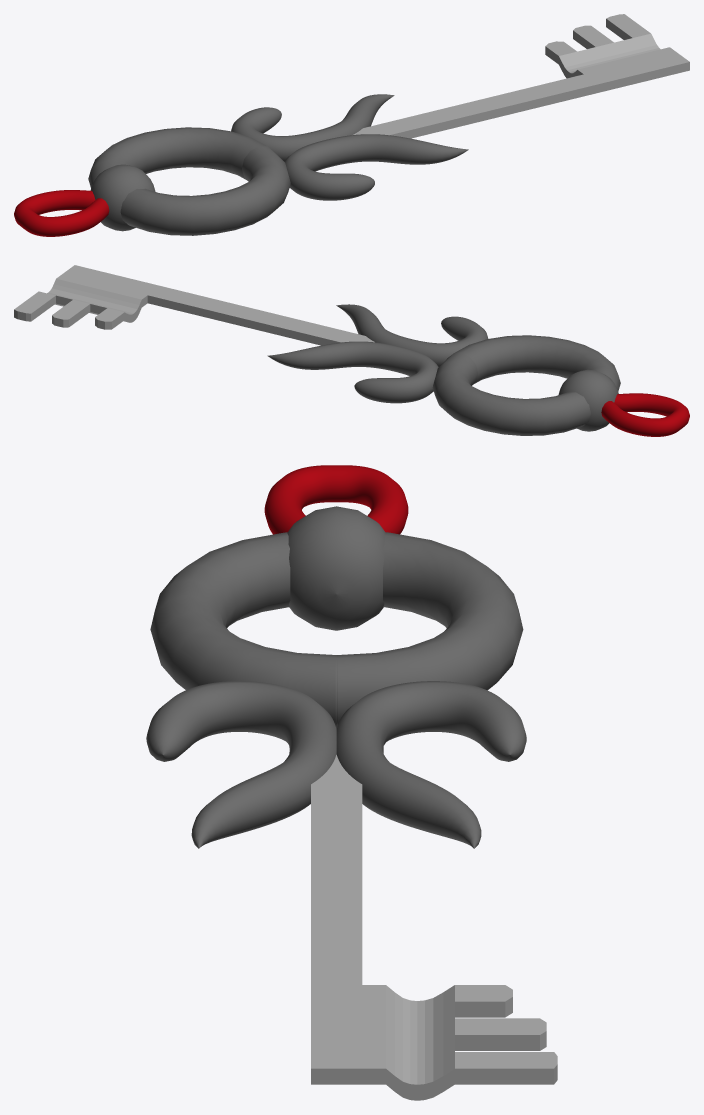
File: Clef_introma.fbx
3 renders of one model, top to bottom at view 1: azimuth 30°, elevation 25°; view 2: azimuth 150°, elevation 25°; view 3: azimuth 270°, elevation 25°, orthographic. The views are drawn at different scales.
Parts seen in each view (by area): view 1: BezierCurve; view 2: BezierCurve; view 3: BezierCurve.
Boxes of the visible parts, left/top/right/bottom form: BezierCurve: left=14, top=14, right=689, bottom=236; BezierCurve: left=14, top=265, right=689, bottom=436; BezierCurve: left=146, top=465, right=557, bottom=1100.
Bounding box in the file's own units: 419 × 126 × 1448.
